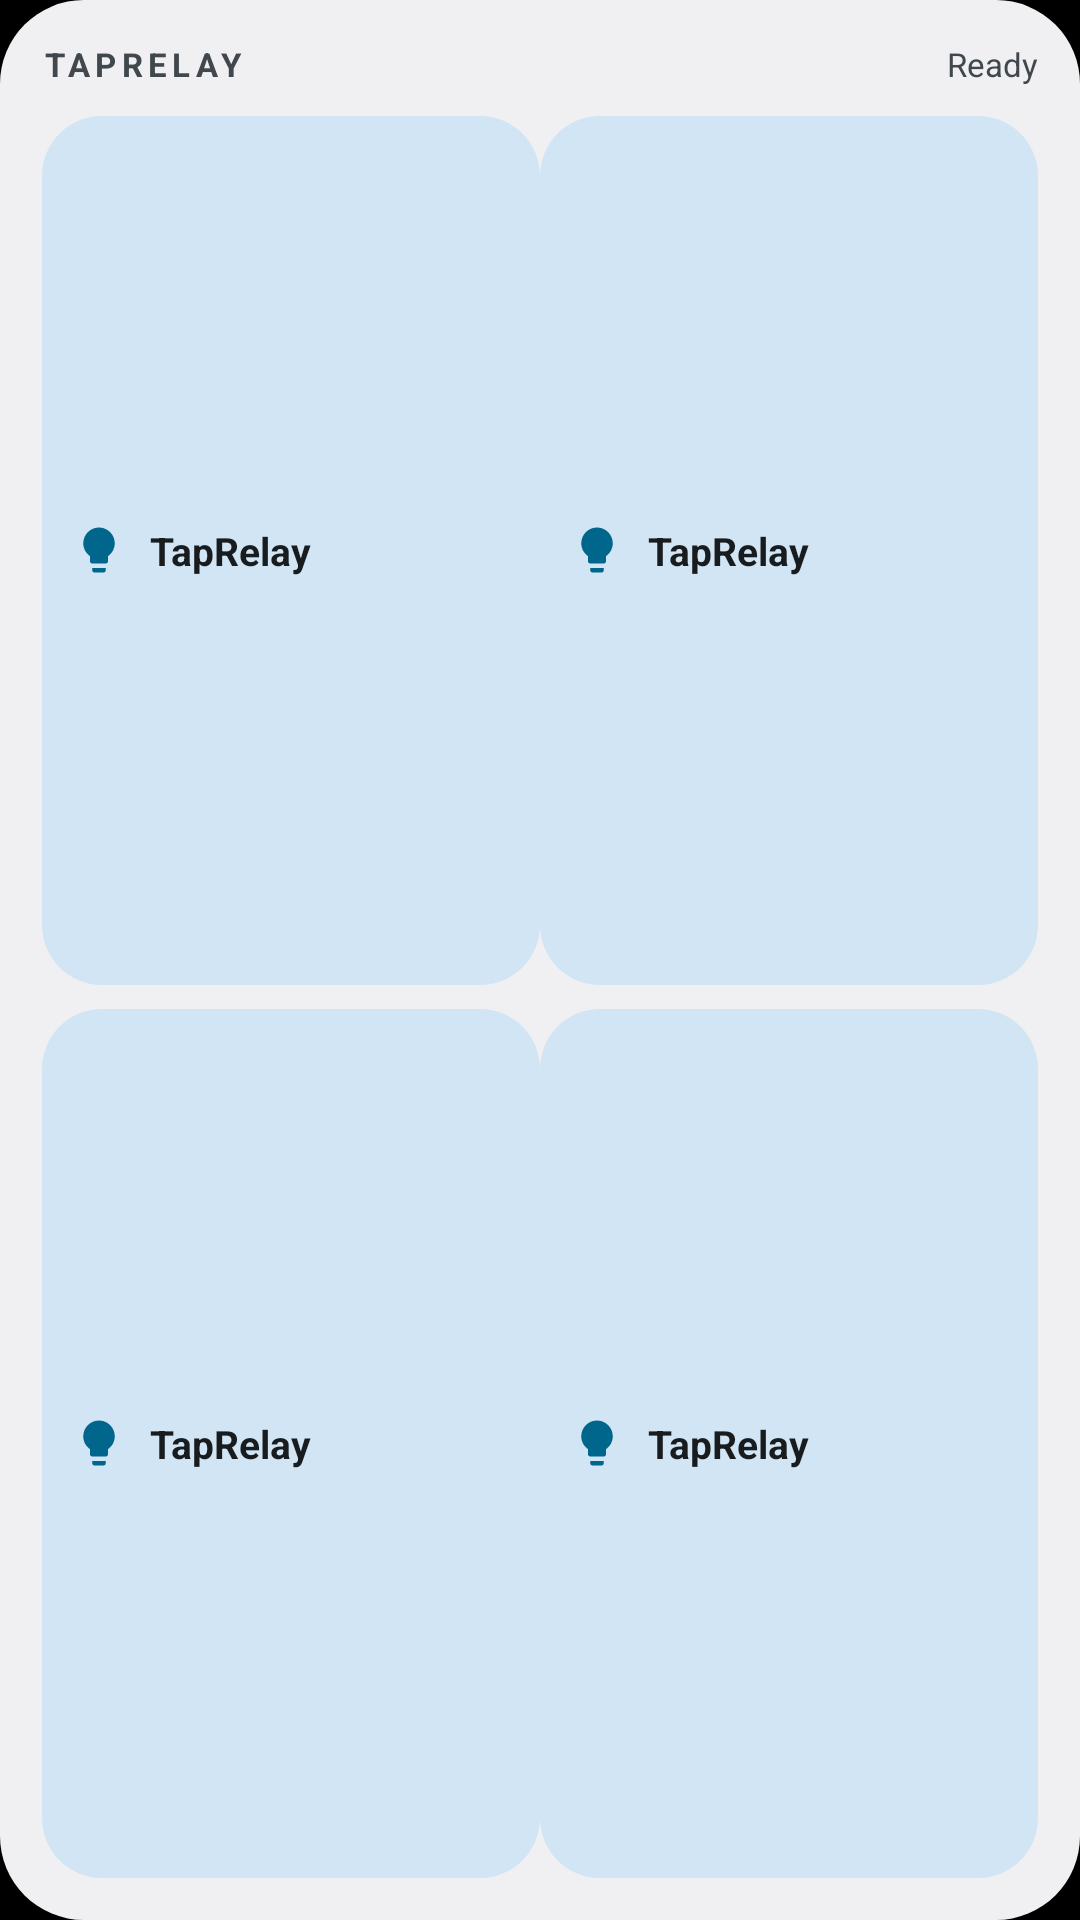

Screen size 1080px x 1920px. Icon name, then its box in pixels as (x1, y1, x2, y2):
lamp: (83, 527, 115, 573), (581, 527, 613, 573), (83, 1420, 115, 1466), (581, 1420, 613, 1466)
